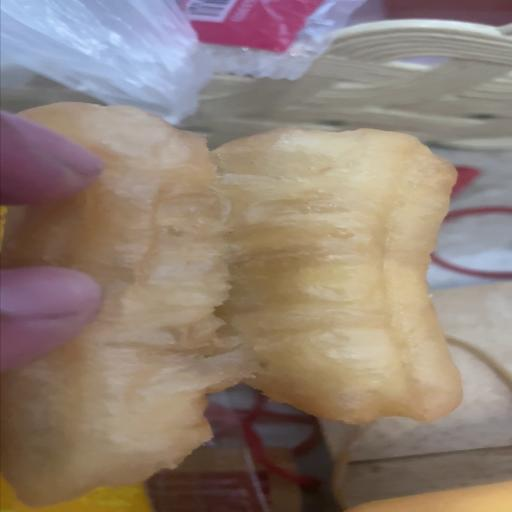street_golden_defect: (0, 120, 462, 512)
